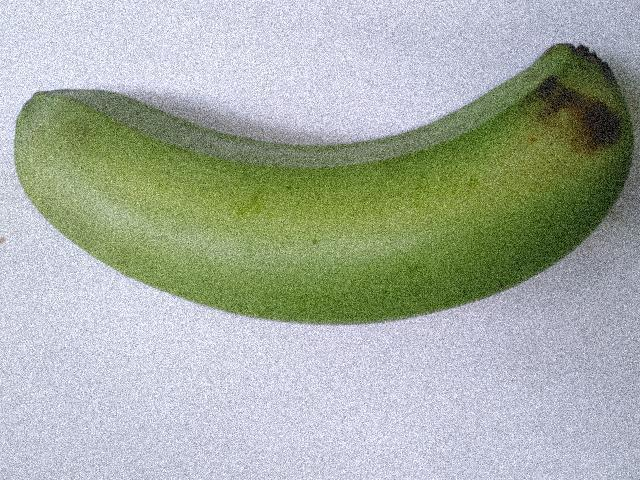freshunripe: (6, 27, 639, 338)
